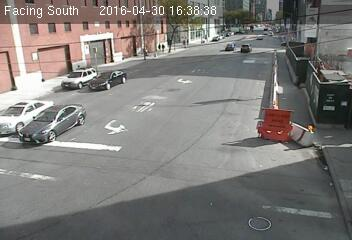neg: (266, 109, 295, 149), (77, 80, 106, 120), (131, 105, 159, 142), (294, 166, 322, 203), (85, 156, 112, 193), (157, 47, 184, 83), (39, 135, 65, 171), (232, 168, 256, 200), (188, 120, 210, 149), (207, 54, 229, 82), (14, 90, 36, 118), (296, 35, 313, 58), (140, 177, 155, 197)
